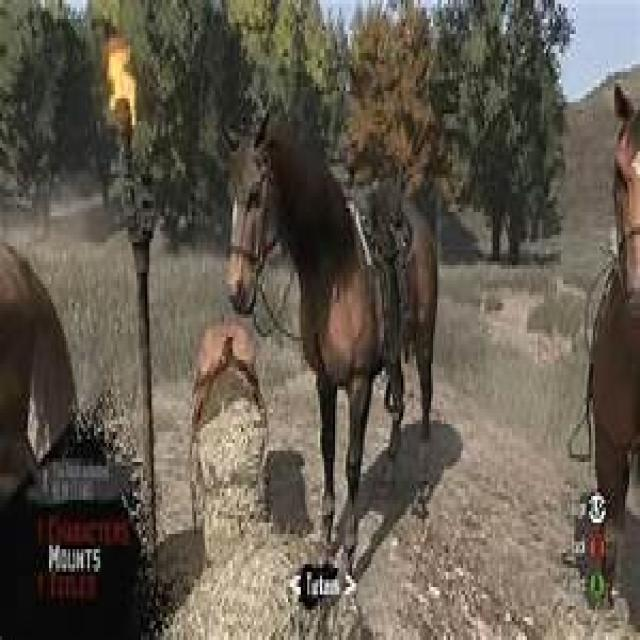horse: (226, 140, 437, 523)
